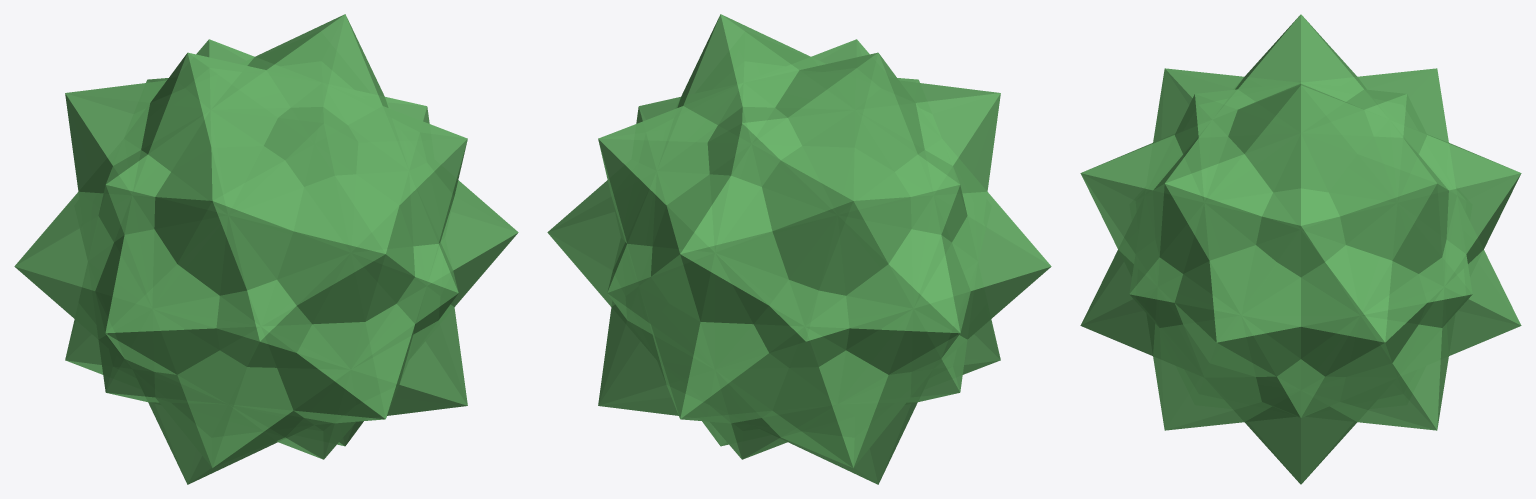
The model's file is MedialIcosacronicHexecontahedron.obj.
3 renders of one model, left to right at view 1: azimuth 30°, elevation 25°; view 2: azimuth 150°, elevation 25°; view 3: azimuth 270°, elevation 25°, orthographic. The views are drawn at different scales.
Size of the model in its own units: 3.24 by 3.24 by 3.24.
